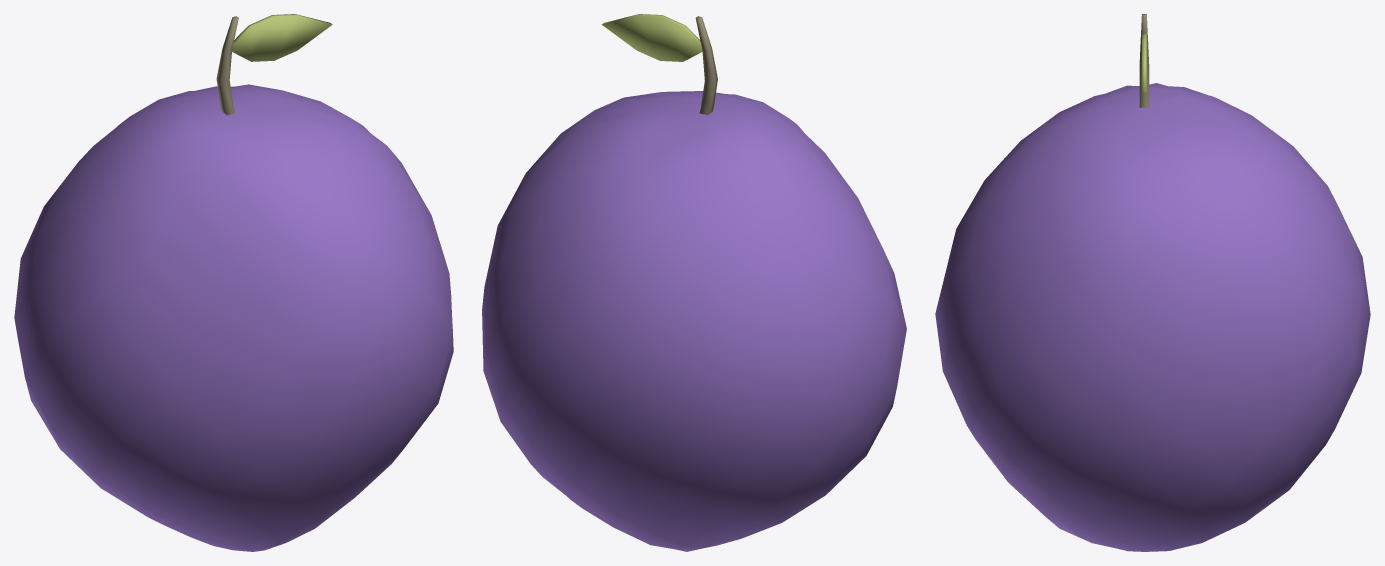
The model's file is Fruta.fbx.
3 views of the same model, side by side, from view 1: azimuth 30°, elevation 25°; view 2: azimuth 150°, elevation 25°; view 3: azimuth 270°, elevation 25° (orthographic).
Parts seen in each view (by area): view 1: Fruta; view 2: Fruta; view 3: Fruta.
Boxes of the visible parts, x1=… form: Fruta: x1=14, y1=14, x2=453, y2=551; Fruta: x1=482, y1=14, x2=906, y2=551; Fruta: x1=935, y1=14, x2=1370, y2=551.
Bounding box in the file's own units: 181 × 241 × 179.
